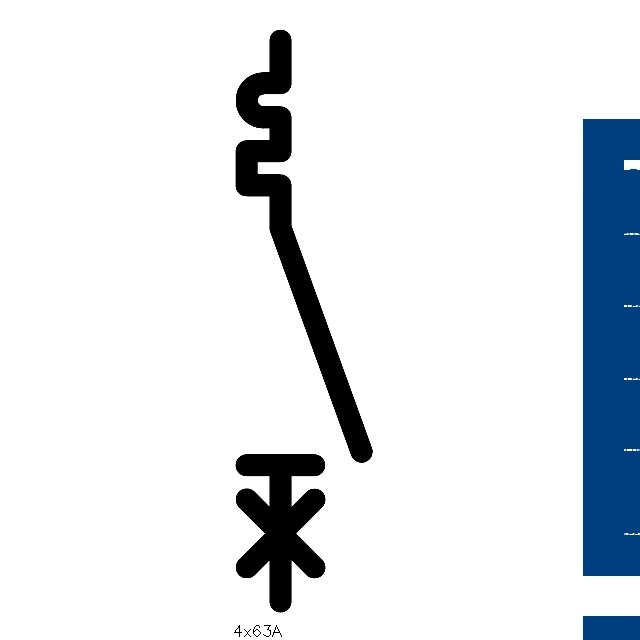interruptor_termomagnetico: (232, 26, 376, 616)
